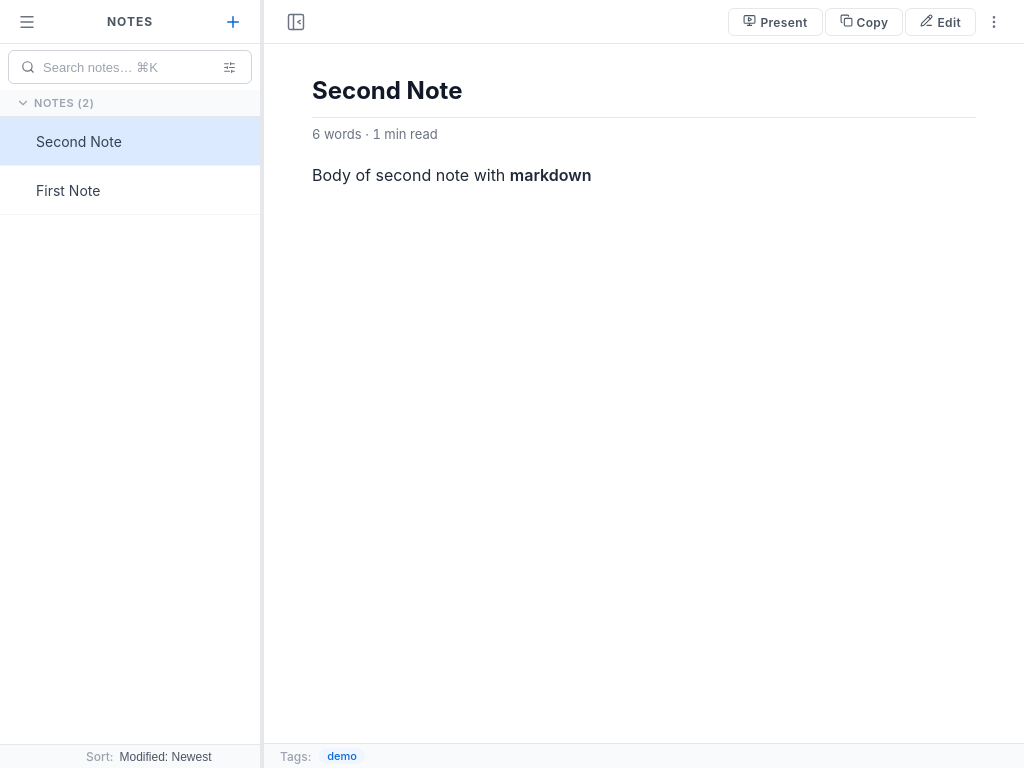
Test: App integration tests › settings shows General content
Click the button named "Menu" at (27, 22), box [12, 6, 42, 36]
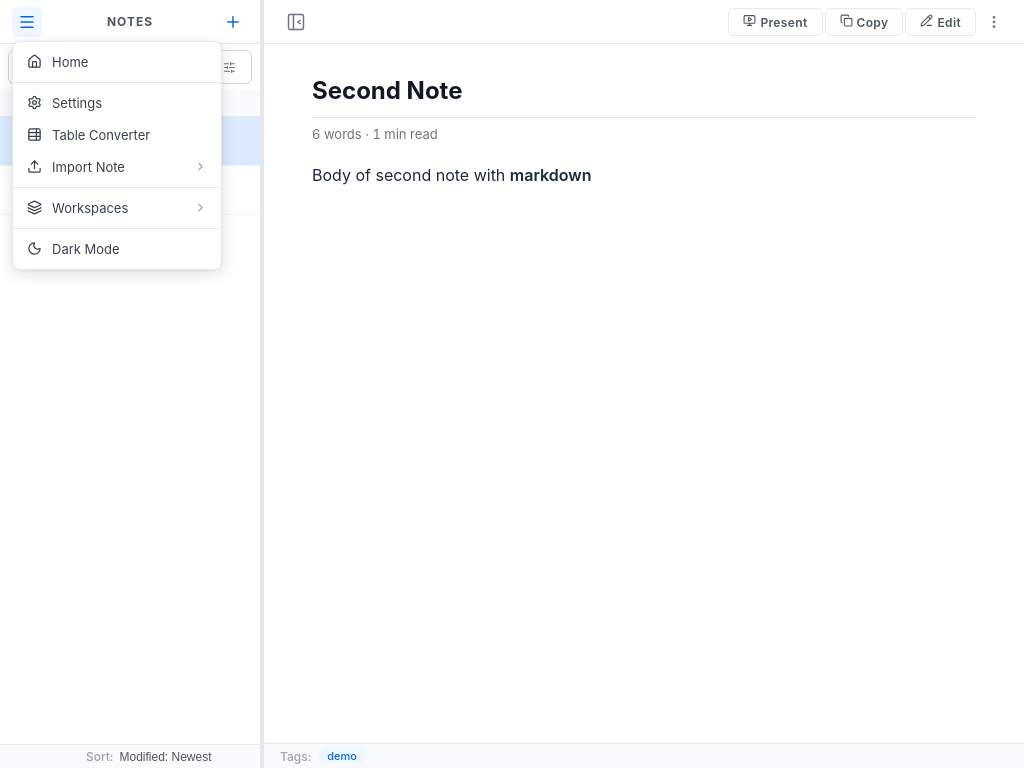
Click the menu item "Settings" at (117, 102), box [13, 86, 221, 118]
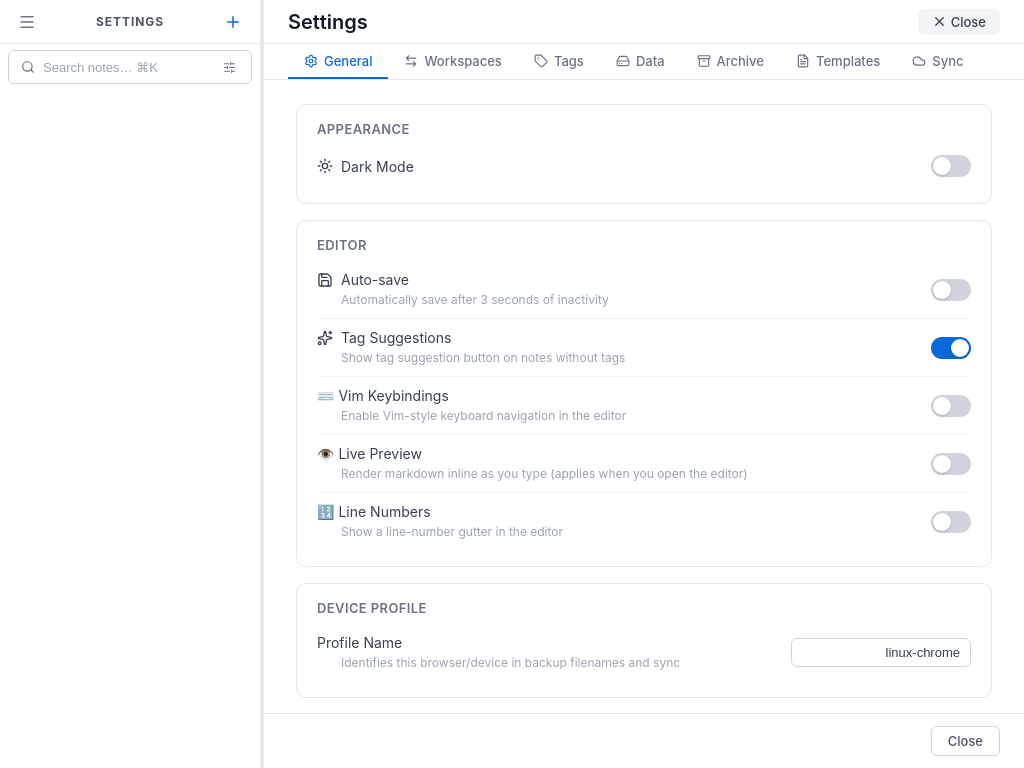
Result: the heading "Appearance" is shown at [317, 121, 410, 137]
